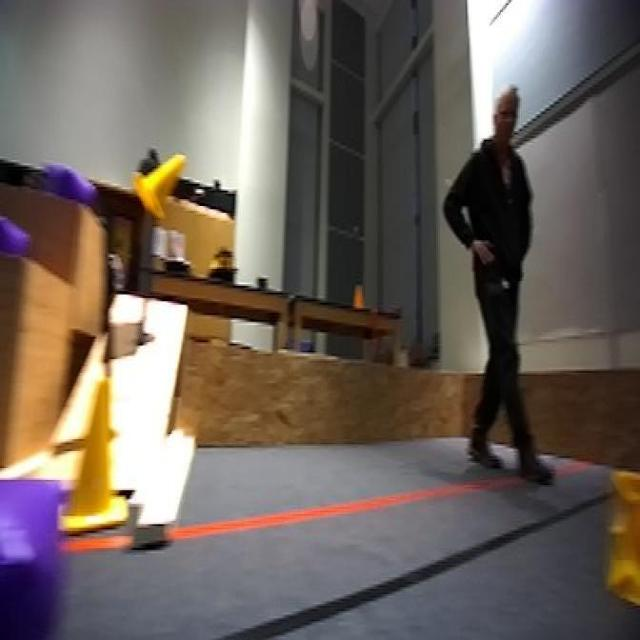frc_cone: (62, 370, 128, 530), (128, 148, 183, 226)
frc_cube: (0, 475, 68, 640), (40, 155, 101, 209), (0, 211, 33, 270)
